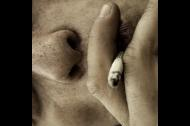Cigarette: (108, 51, 124, 87)
